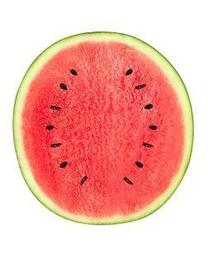watermelon: (13, 31, 194, 226)
